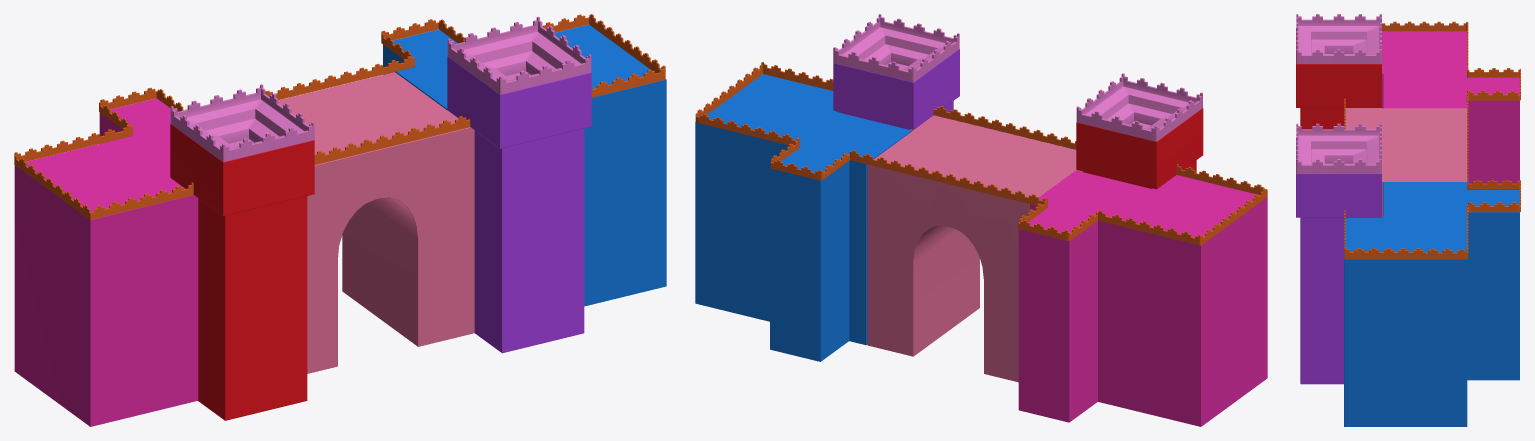
The picture shows the model from 3 angles, left to right: view 1: azimuth 30°, elevation 25°; view 2: azimuth 150°, elevation 25°; view 3: azimuth 270°, elevation 25°; orthographic projection. The views are drawn at different scales.
Visible parts, largest first — view 1: Cube.013, Cube.012, Cube.010, Cube.011, Cube.006, Cube.015, Cube.016, Cube.009; view 2: Cube.013, Cube.006, Cube.012, Cube.015, Cube.011, Cube.010, Cube.009, Cube.016; view 3: Cube.006, Cube.013, Cube.010, Cube.012, Cube.011, Cube.015, Cube.016, Cube.009.
Part boxes in pixels (bbox=[...]): Cube.013: bbox=[14, 98, 198, 426]; Cube.012: bbox=[278, 72, 474, 373]; Cube.010: bbox=[447, 56, 591, 353]; Cube.011: bbox=[170, 123, 314, 420]; Cube.006: bbox=[383, 24, 666, 306]; Cube.015: bbox=[14, 14, 665, 219]; Cube.016: bbox=[447, 16, 591, 94]; Cube.009: bbox=[170, 84, 314, 161]; Cube.013: bbox=[1018, 170, 1267, 426]; Cube.006: bbox=[695, 74, 911, 361]; Cube.012: bbox=[867, 115, 1082, 382]; Cube.015: bbox=[695, 62, 1267, 245]; Cube.011: bbox=[1076, 108, 1203, 189]; Cube.010: bbox=[833, 48, 959, 129]; Cube.009: bbox=[1076, 73, 1202, 141]; Cube.016: bbox=[833, 14, 959, 82]; Cube.006: bbox=[1344, 182, 1519, 426]; Cube.013: bbox=[1382, 31, 1519, 189]; Cube.010: bbox=[1296, 138, 1381, 384]; Cube.012: bbox=[1344, 108, 1466, 216]; Cube.011: bbox=[1296, 28, 1381, 129]; Cube.015: bbox=[1344, 21, 1520, 258]; Cube.016: bbox=[1296, 123, 1381, 173]; Cube.009: bbox=[1296, 14, 1381, 63].
Bounding box in the file's own units: 3008 × 1390 × 1252.
